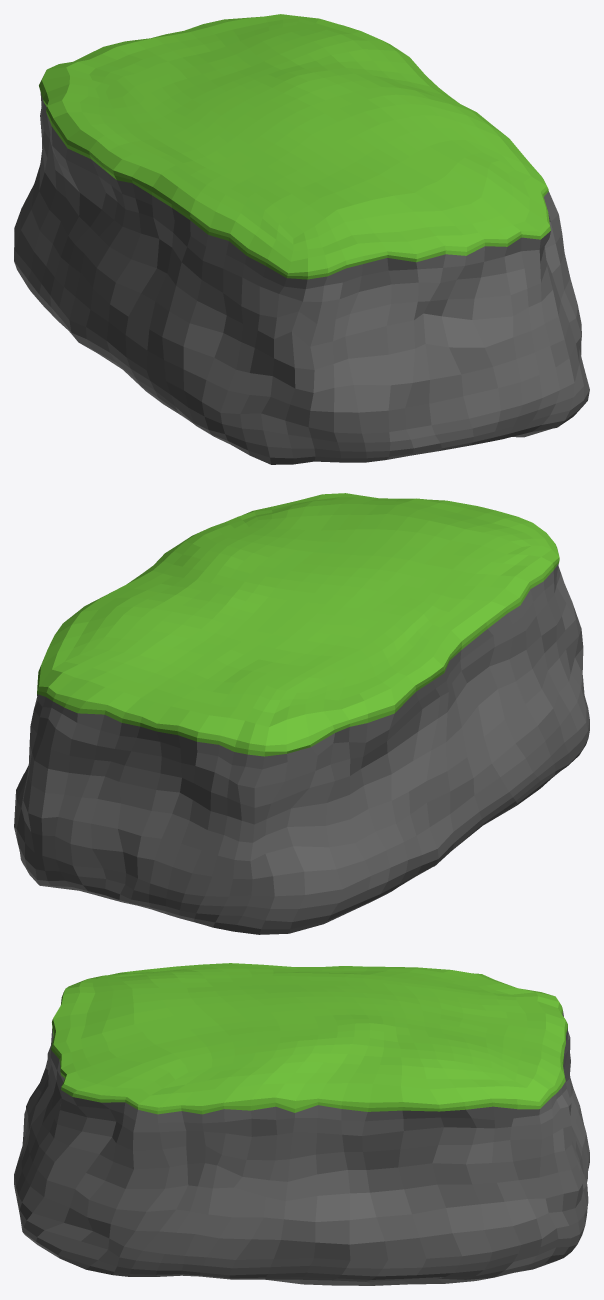
Rendered from boulder2.fbx.
3 views of the same model, one above another, from view 1: azimuth 30°, elevation 25°; view 2: azimuth 150°, elevation 25°; view 3: azimuth 270°, elevation 25° (orthographic). The views are drawn at different scales.
Visible parts, largest first — view 1: Cube.003; view 2: Cube.003; view 3: Cube.003.
Boxes of the visible parts, x1=… form: Cube.003: x1=14, y1=14, x2=589, y2=464; Cube.003: x1=14, y1=493, x2=589, y2=934; Cube.003: x1=14, y1=963, x2=589, y2=1285.
Bounding box in the file's own units: 406 × 251 × 604.
